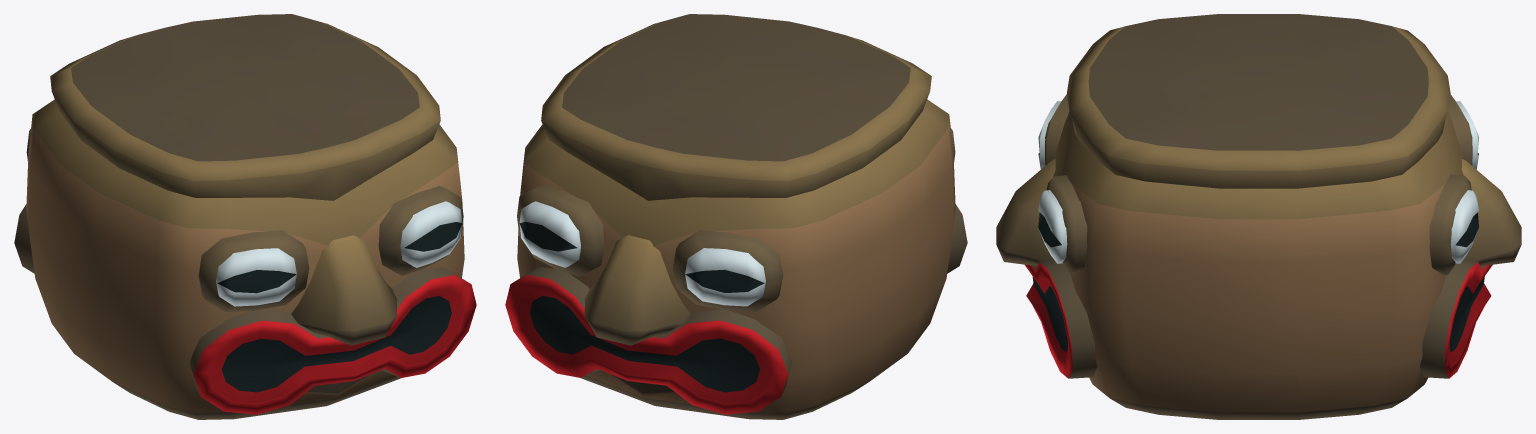
File: tribal_statue3.fbx
3 renders of one model, left to right at view 1: azimuth 30°, elevation 25°; view 2: azimuth 150°, elevation 25°; view 3: azimuth 270°, elevation 25°, orthographic. The views are drawn at different scales.
Parts seen in each view (by area): view 1: tribal_statue3; view 2: tribal_statue3; view 3: tribal_statue3.
Boxes of the visible parts, box(x1,y1,x2,y2) form: tribal_statue3: box(14, 14, 476, 419); tribal_statue3: box(505, 14, 967, 419); tribal_statue3: box(996, 14, 1521, 419).
Size of the model in its own units: 117 by 84.8 by 150.
Materials: 1 (1 with a texture image).
